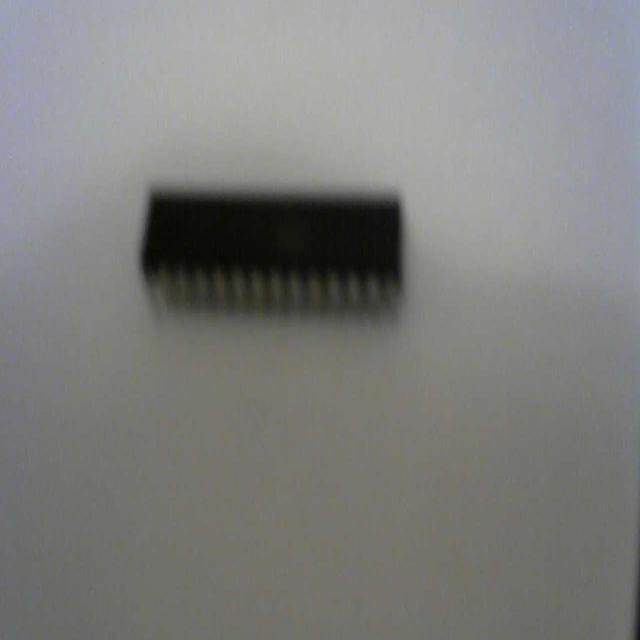atmega: (138, 180, 406, 328)
